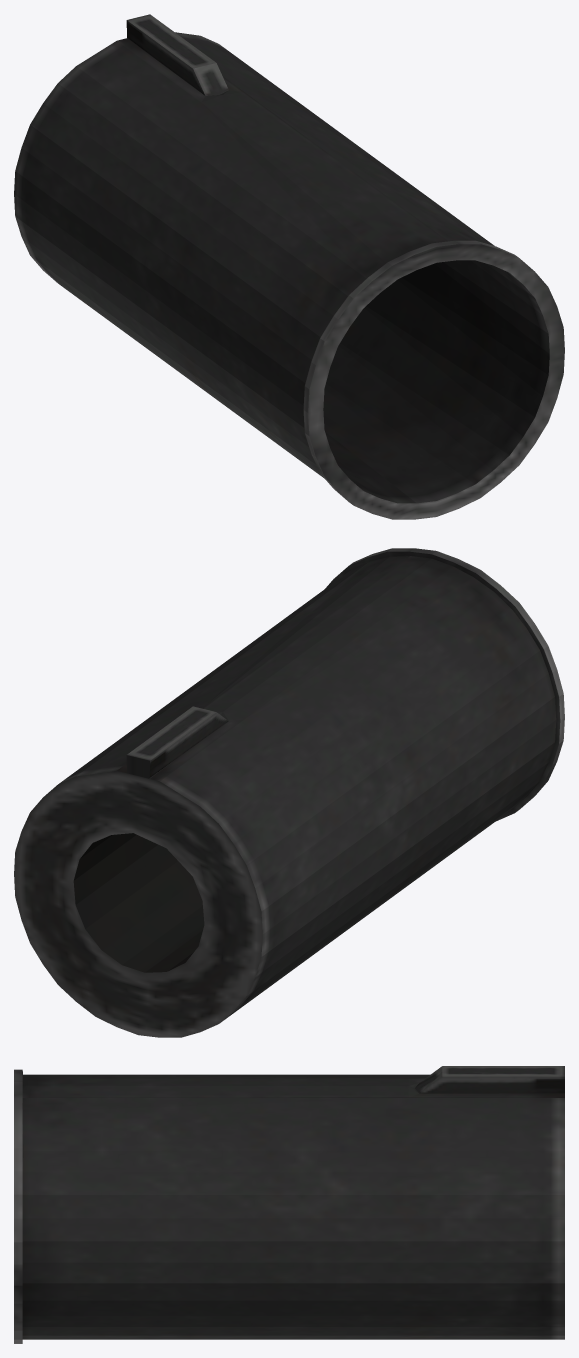
3 renders of one model, top to bottom at view 1: azimuth 30°, elevation 25°; view 2: azimuth 150°, elevation 25°; view 3: azimuth 270°, elevation 25°, orthographic. The views are drawn at different scales.
Visible parts, largest first — view 1: TW_57f3c7e024597738ea4ba286_PZ_Import; view 2: TW_57f3c7e024597738ea4ba286_PZ_Import; view 3: TW_57f3c7e024597738ea4ba286_PZ_Import.
Part boxes in pixels (<box>): TW_57f3c7e024597738ea4ba286_PZ_Import: <box>14,14,564,519</box>; TW_57f3c7e024597738ea4ba286_PZ_Import: <box>14,548,564,1037</box>; TW_57f3c7e024597738ea4ba286_PZ_Import: <box>14,1066,564,1343</box>.
Size of the model in its own units: 0.0171 by 0.0345 by 0.018.
Materials: 1 (1 with a texture image).
